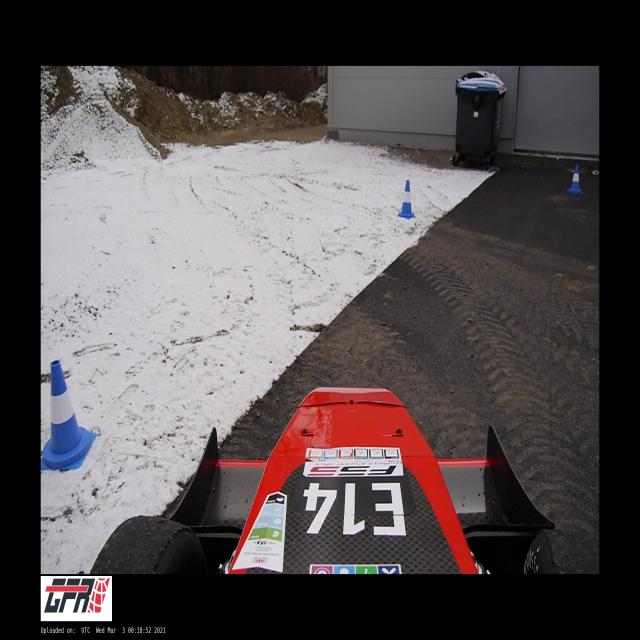blue_cone: (41, 360, 97, 470), (398, 181, 416, 218), (567, 165, 583, 193)
